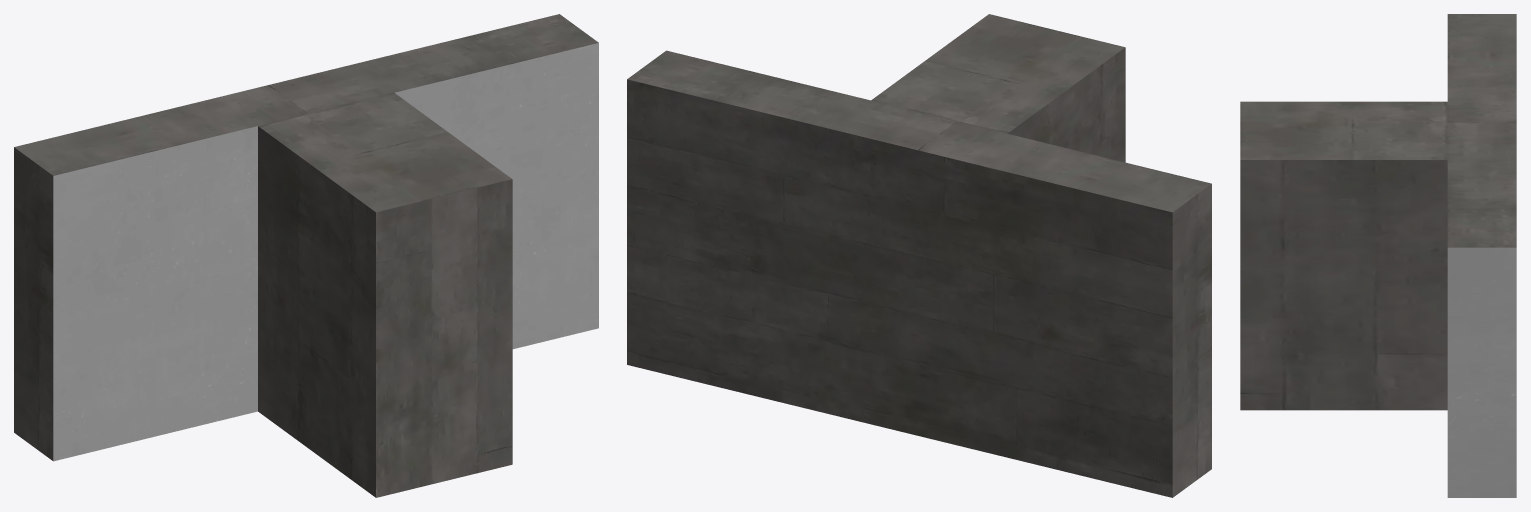
File: center_wall_50cm.glb
3 renders of one model, left to right at view 1: azimuth 30°, elevation 25°; view 2: azimuth 150°, elevation 25°; view 3: azimuth 270°, elevation 25°, orthographic. The views are drawn at different scales.
Visible parts, largest first — view 1: center.wall.50cm; view 2: center.wall.50cm; view 3: center.wall.50cm.
Part boxes in pixels (x1,y1,x2,y2): center.wall.50cm: (14, 14, 598, 497); center.wall.50cm: (627, 14, 1211, 497); center.wall.50cm: (1240, 14, 1516, 497).
Bounding box in the file's own units: 1 × 0.5 × 0.5.
2 materials, 2 textured.
